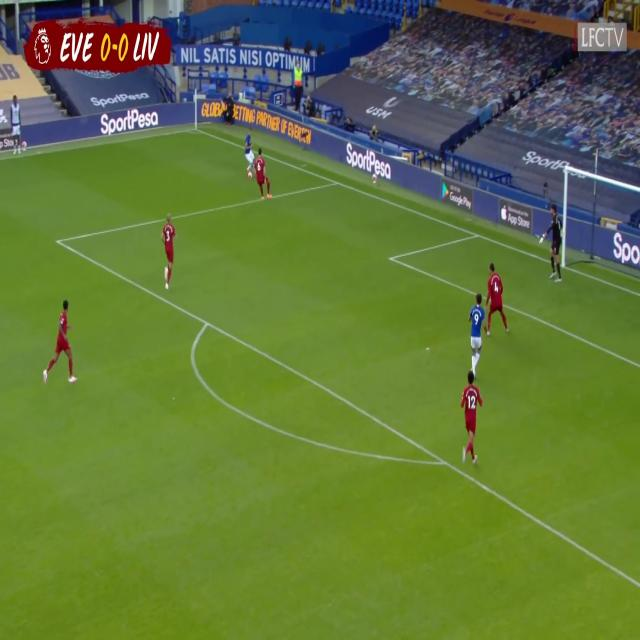Ball: (246, 167, 254, 183)
GoalKeeper: (540, 190, 566, 294)
TEAM 1: (36, 295, 85, 387), (458, 369, 485, 470), (485, 249, 511, 346), (157, 210, 180, 292), (253, 144, 273, 200)
TEAM 2: (468, 286, 485, 375), (244, 127, 258, 171)
